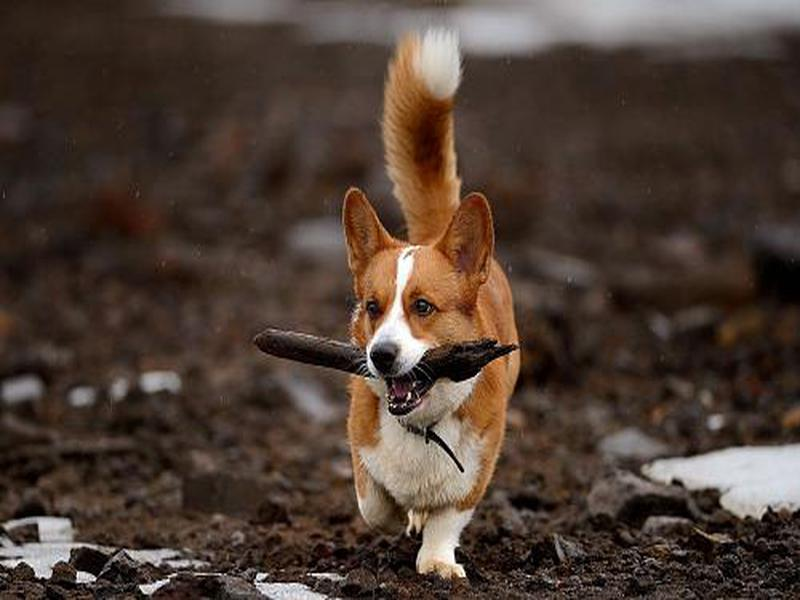corgi: (337, 183, 515, 432)
